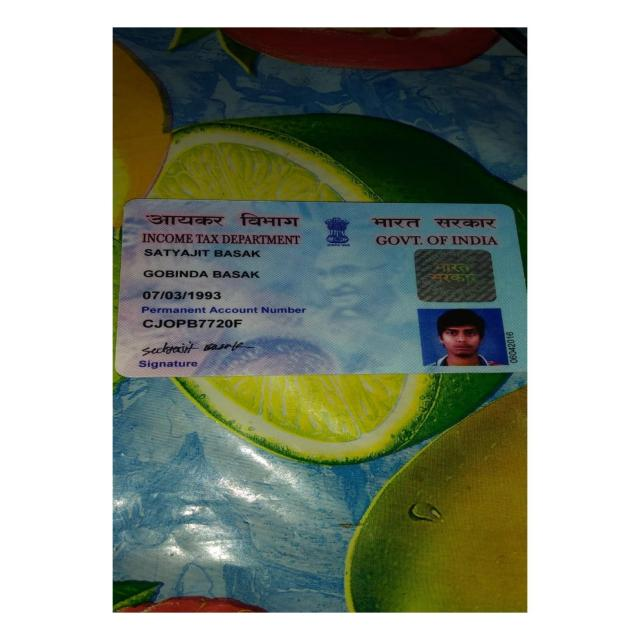pan_card: (117, 202, 524, 377)
